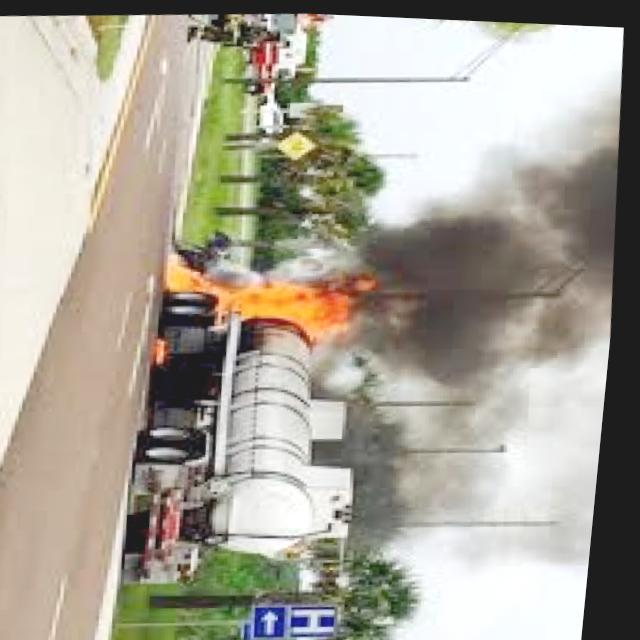Fire: (175, 247, 378, 357)
Smoke: (315, 161, 629, 553)
